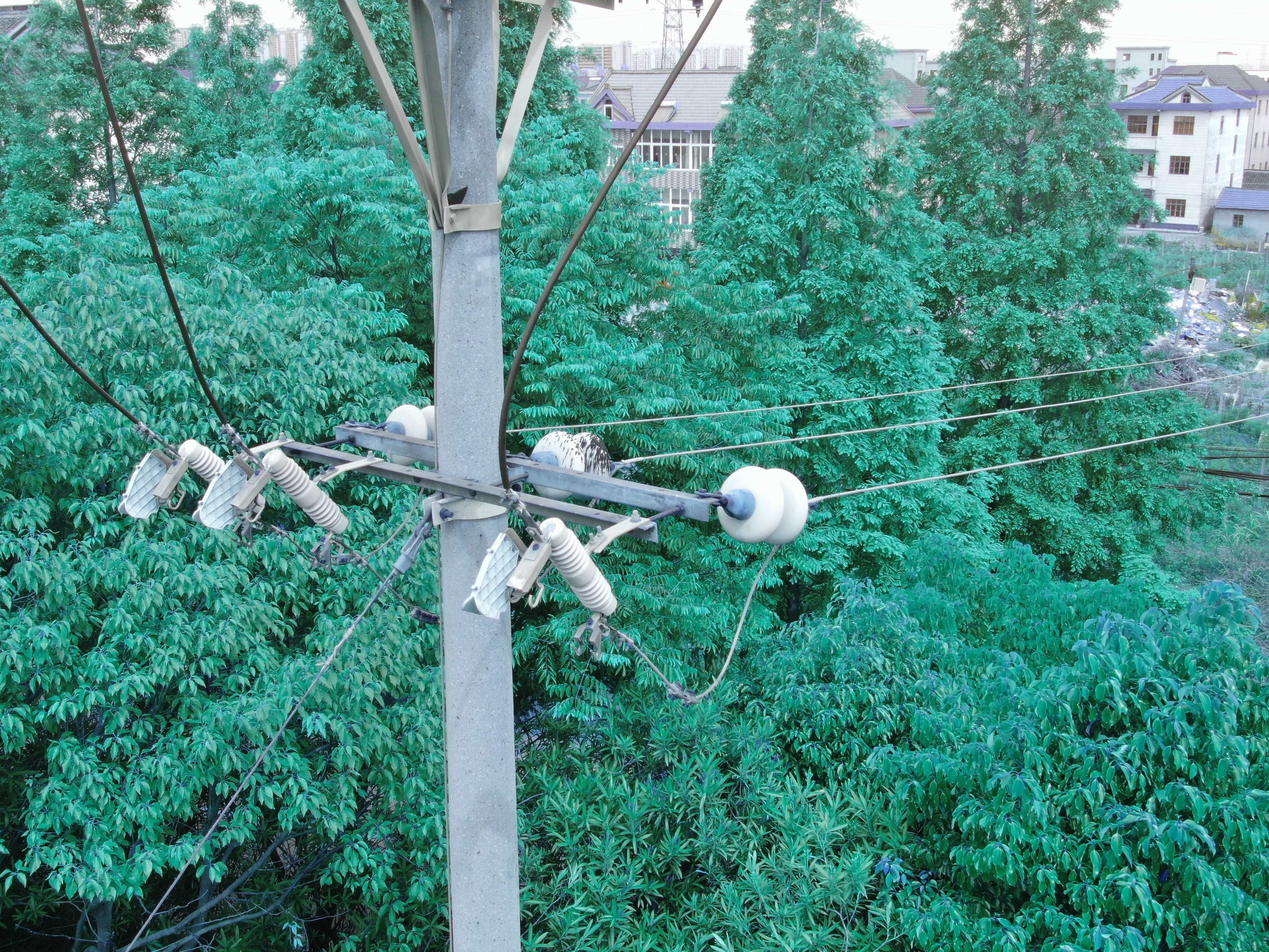severe_soiling_no_discharge_whole: (524, 428, 615, 502)
